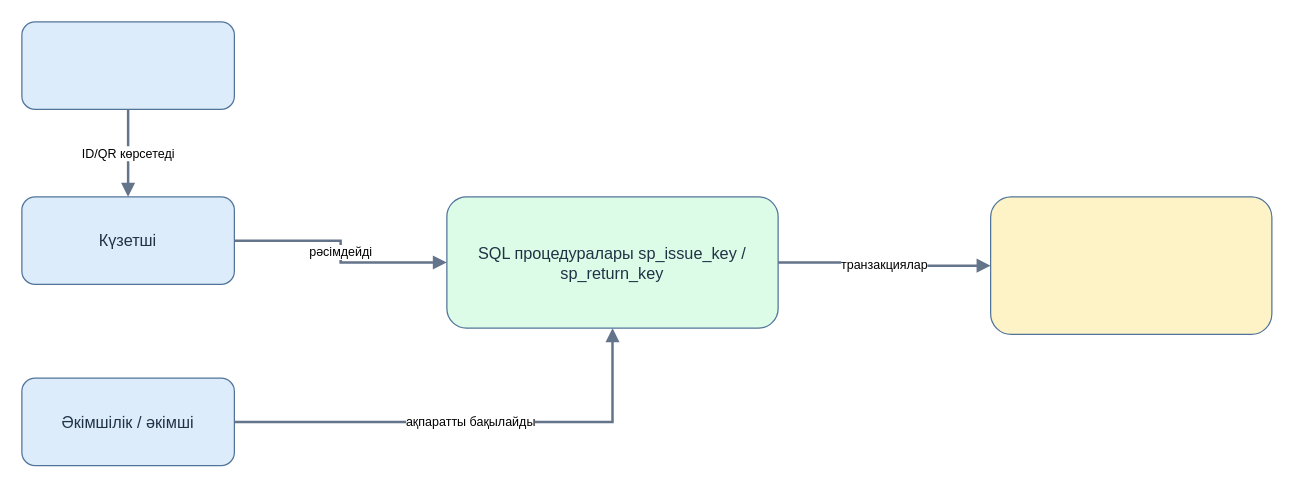
Some shapes in this 1294 by 488 pixel diagram are drawn without their labels. Here are the shapes that lost their labels. From the top down, the box of each, then its label:
(21, 21, 234, 109): Оқытушы
(989, 196, 1272, 334): Microsoft SQL Server staff | rooms | room_keys key_issues | key_audit
